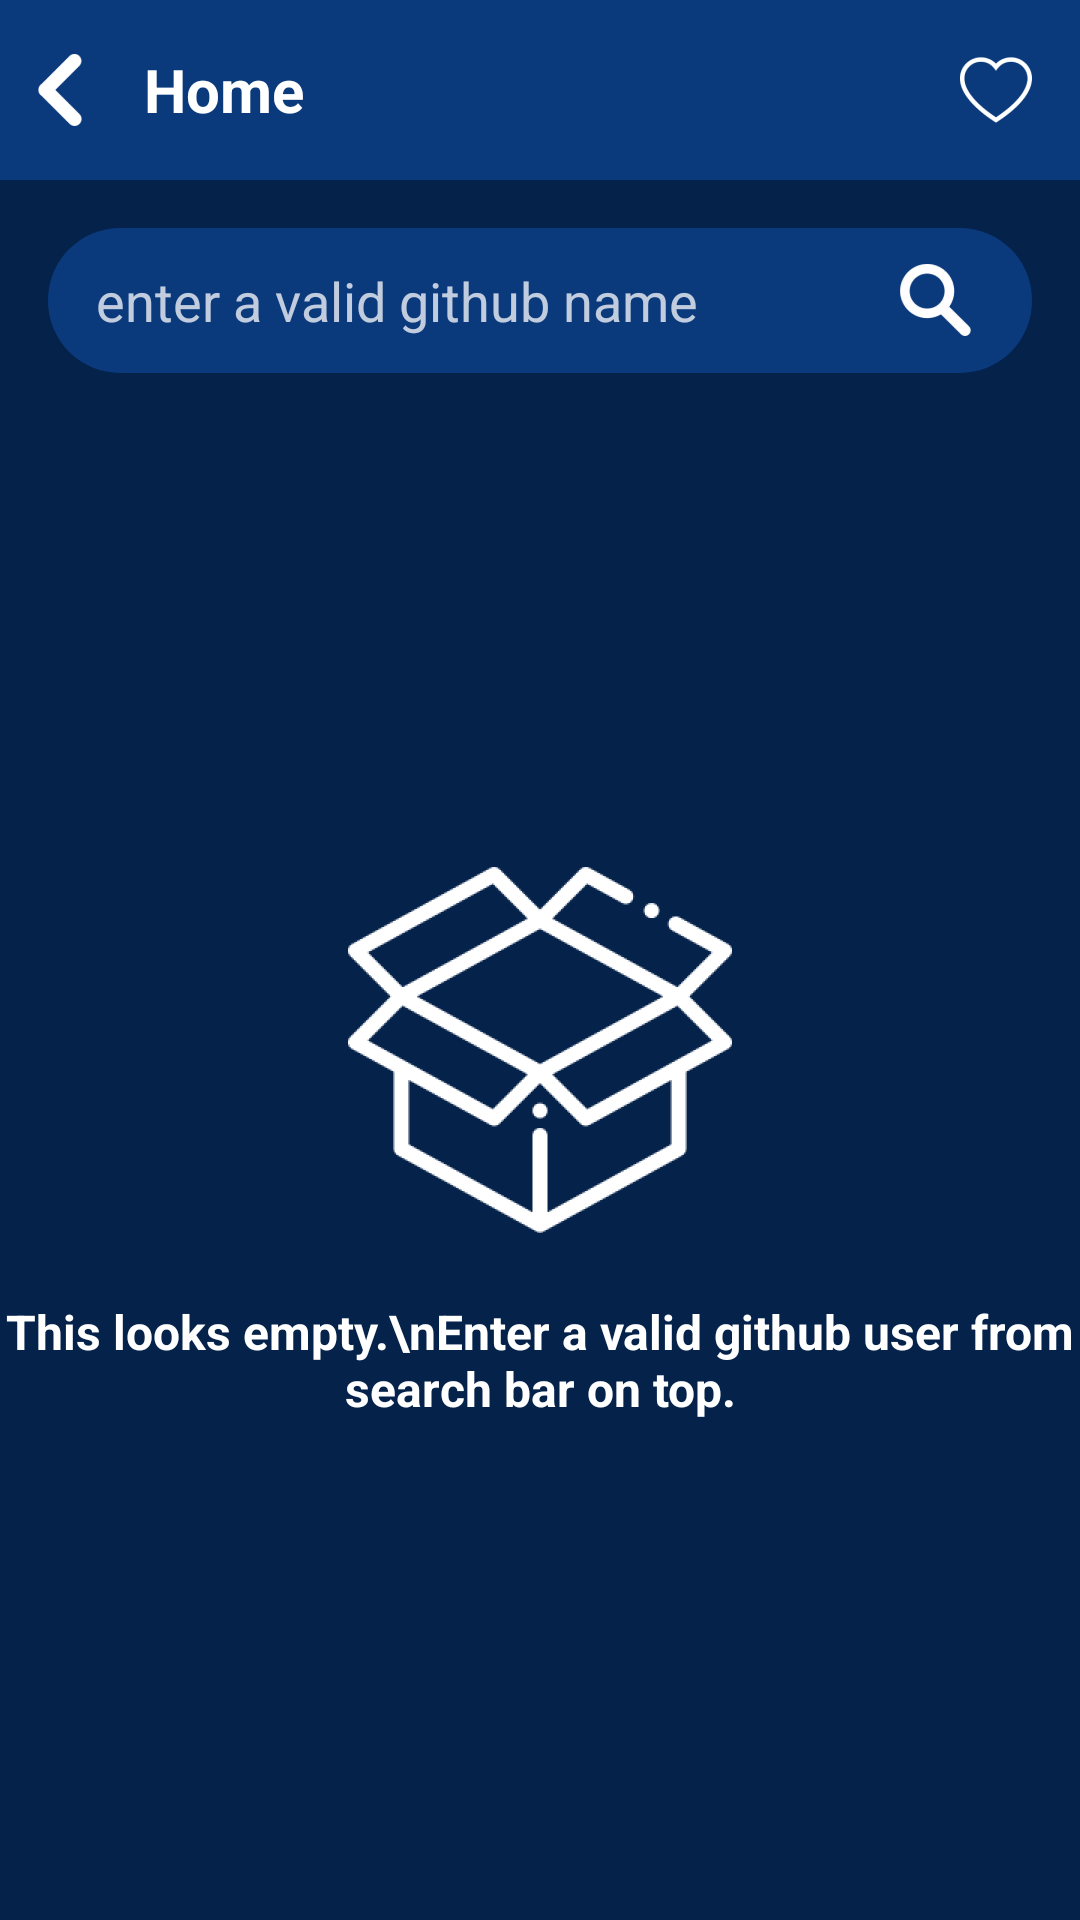

Point at icon controls on the screen. Image size 1080 x 1920, points as (x=x, y=y).
back: (x=60, y=90)
search: (x=935, y=300)
